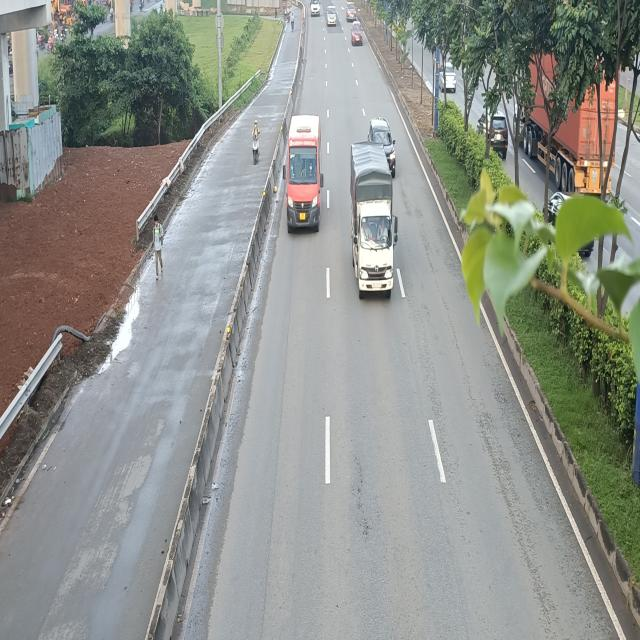truck: (349, 142, 399, 300)
van: (282, 117, 322, 236)
